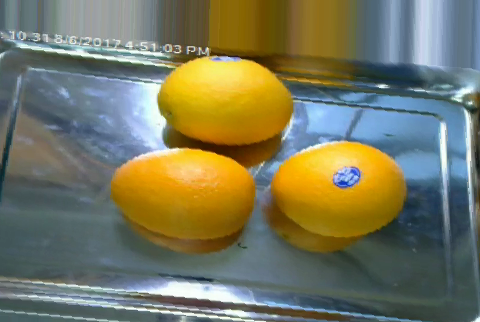Orange: (109, 146, 254, 240), (271, 138, 406, 237), (157, 55, 293, 144)
